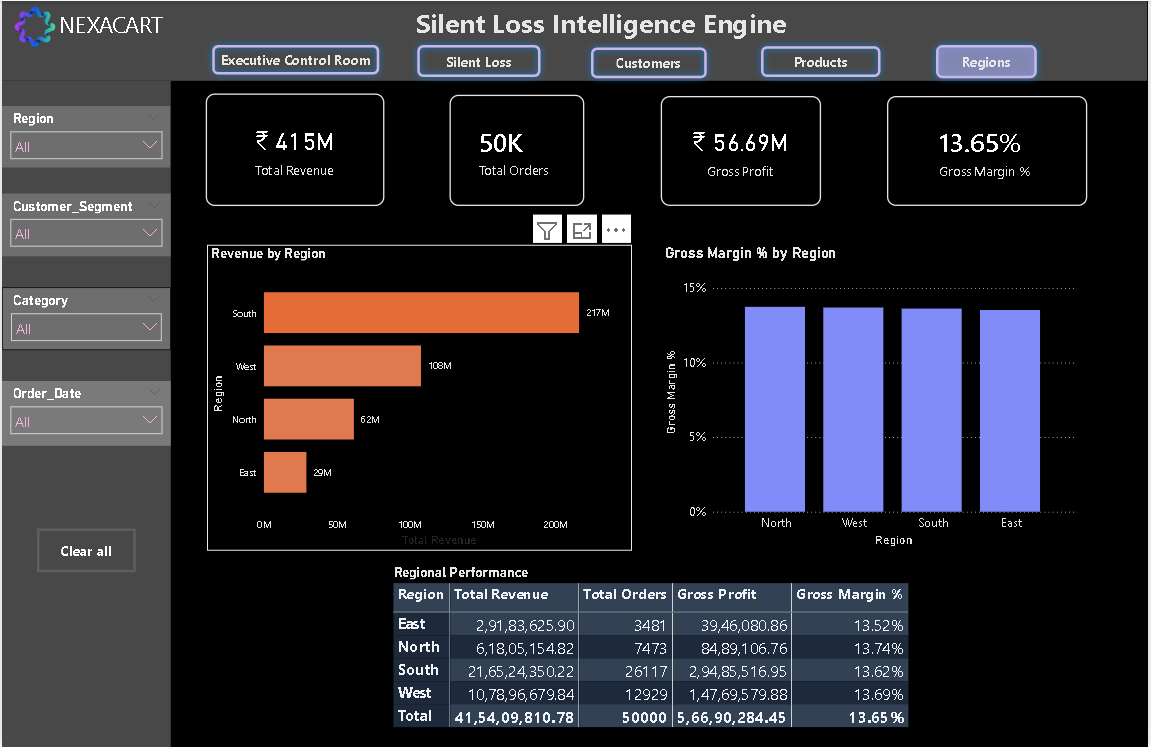

This screenshot's page, from the dashboard's own definition file:
{"tool":"powerbi","page":{"name":"Regions","canvas":[1400,912],"ordinal":4},"visuals":[{"type":"textbox","box":[0,0,1399.8,97.8],"z":0},{"type":"shape","box":[0,97.5,206.3,814.5],"z":1000},{"type":"slicer","fields":{"Values":["customers.Region"]},"box":[0,127.6,205.8,75.5],"z":2000},{"type":"slicer","fields":{"Values":["customers.Customer_Segment"]},"box":[0,235.3,206.3,76.4],"z":3000},{"type":"slicer","fields":{"Values":["products.Category"]},"box":[0,349.9,206.3,76.4],"z":4000},{"type":"slicer","fields":{"Values":["orders.Order_Date"]},"box":[0,464.6,206.3,79.5],"z":5000},{"type":"card","fields":{"Values":["order_items.Total Revenue"]},"box":[249.1,113.1,218.5,137.5],"z":6000},{"type":"cardVisual","fields":{"Data":["orders.Total Orders"]},"box":[547.1,114.6,165,136],"z":7000},{"type":"card","fields":{"Values":["order_items.Gross Profit"]},"box":[805.3,116.1,195.6,134.5],"z":8000},{"type":"cardVisual","fields":{"Data":["order_items.Gross Margin %"]},"box":[1081.9,116.1,244.5,134.5],"z":9000},{"type":"actionButton","box":[42.8,644.9,120.7,53.5],"z":10000},{"type":"actionButton","box":[249.1,45.8,220.1,52],"z":11000},{"type":"image","box":[0,0,82.5,59.6],"z":12000},{"type":"actionButton","box":[712.1,48.9,157.4,53.5],"z":13000},{"type":"actionButton","box":[499.7,45.8,166.6,55],"z":14000},{"type":"actionButton","box":[1133.9,45.8,139.1,56.5],"z":15000},{"type":"actionButton","box":[920,47.4,162,53.5],"z":16000},{"type":"barChart","title":"Revenue by Region","fields":{"Category":["customers.Region"],"Y":["order_items.Total Revenue"]},"box":[250.6,298,519.6,374.4],"z":17000},{"type":"clusteredColumnChart","fields":{"Y":["order_items.Gross Margin %"],"Category":["customers.Region"]},"box":[805.3,298,510.4,374.4],"z":18000},{"type":"pivotTable","title":"Regional Performance","fields":{"Rows":["customers.Region"],"Values":["order_items.Total Revenue","orders.Total Orders","order_items.Gross Profit","order_items.Gross Margin %"]},"box":[473.7,687.7,661.7,224.6],"z":19000}]}

Visuals, with their boxes in screenshot pixels (x1, y1, x2, y2), scaled from the page's 1400x912 canvas onto the 1151x747 screenshot:
textbox: bbox=[0, 0, 1150, 80]
shape: bbox=[0, 80, 170, 746]
slicer - customers.Region: bbox=[0, 105, 169, 166]
slicer - customers.Customer_Segment: bbox=[0, 193, 170, 255]
slicer - products.Category: bbox=[0, 287, 170, 349]
slicer - orders.Order_Date: bbox=[0, 381, 170, 446]
card - order_items.Total Revenue: bbox=[205, 93, 384, 205]
cardVisual - orders.Total Orders: bbox=[450, 94, 585, 205]
card - order_items.Gross Profit: bbox=[662, 95, 823, 205]
cardVisual - order_items.Gross Margin %: bbox=[889, 95, 1090, 205]
actionButton: bbox=[35, 528, 134, 572]
actionButton: bbox=[205, 38, 386, 80]
image: bbox=[0, 0, 68, 49]
actionButton: bbox=[585, 40, 715, 84]
actionButton: bbox=[411, 38, 548, 83]
actionButton: bbox=[932, 38, 1047, 84]
actionButton: bbox=[756, 39, 890, 83]
"Revenue by Region" barChart: bbox=[206, 244, 633, 551]
clusteredColumnChart - order_items.Gross Margin % x customers.Region: bbox=[662, 244, 1082, 551]
"Regional Performance" pivotTable: bbox=[389, 563, 933, 746]
